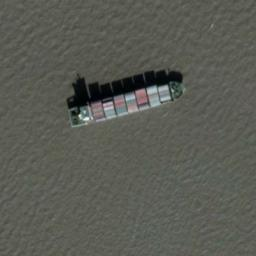boat: (66, 69, 186, 127)
